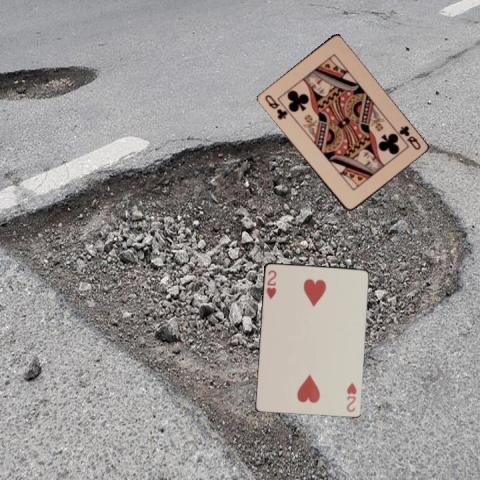2h: (344, 378, 358, 412), (264, 267, 278, 300)
Qc: (261, 92, 289, 121), (396, 123, 422, 151)
